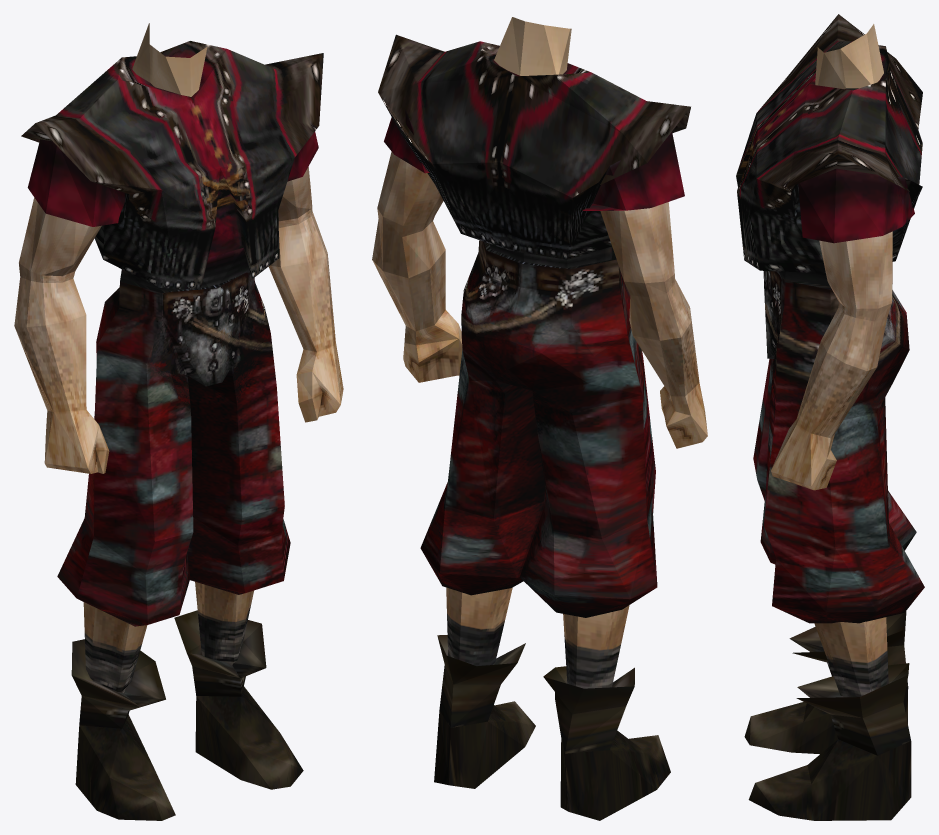
Rendered from STT_ARMOR_M-BOI3S8Qr.glb.
3 views of the same model, side by side, from view 1: azimuth 30°, elevation 25°; view 2: azimuth 150°, elevation 25°; view 3: azimuth 270°, elevation 25° (orthographic). The views are drawn at different scales.
Parts seen in each view (by area): view 1: zm_STT_Tm, zm_Body, zm_Schuhe; view 2: zm_STT_Tm, zm_Body, zm_Schuhe; view 3: zm_STT_Tm, zm_Body, zm_Schuhe.
Part boxes in pixels (x1,y1,x2,y2): zm_STT_Tm: (21,41,323,626); zm_Body: (14,23,343,693); zm_Schuhe: (71,610,303,820); zm_STT_Tm: (378,34,690,617); zm_Body: (372,17,707,688); zm_Schuhe: (434,635,670,820); zm_STT_Tm: (736,14,924,623); zm_Body: (771,24,892,697); zm_Schuhe: (744,611,911,820).
Bounding box in the file's own units: 0.6979 × 1.66 × 0.376.
3 materials, 3 textured.
